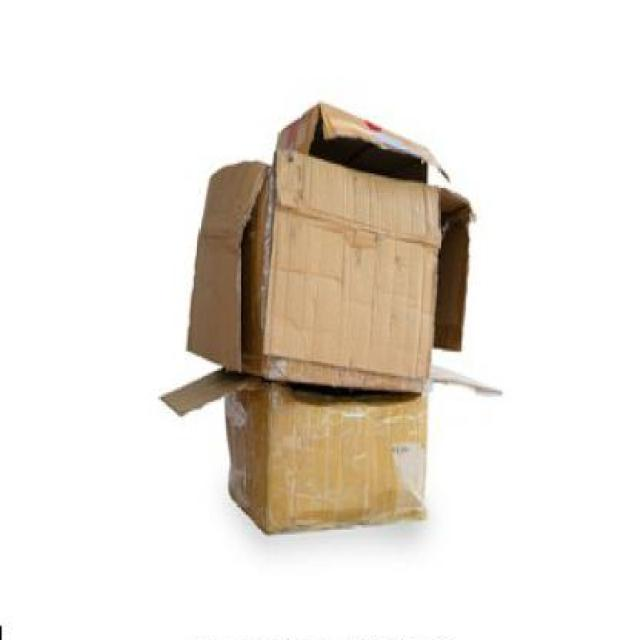box: (194, 102, 475, 373), (189, 366, 480, 544)
